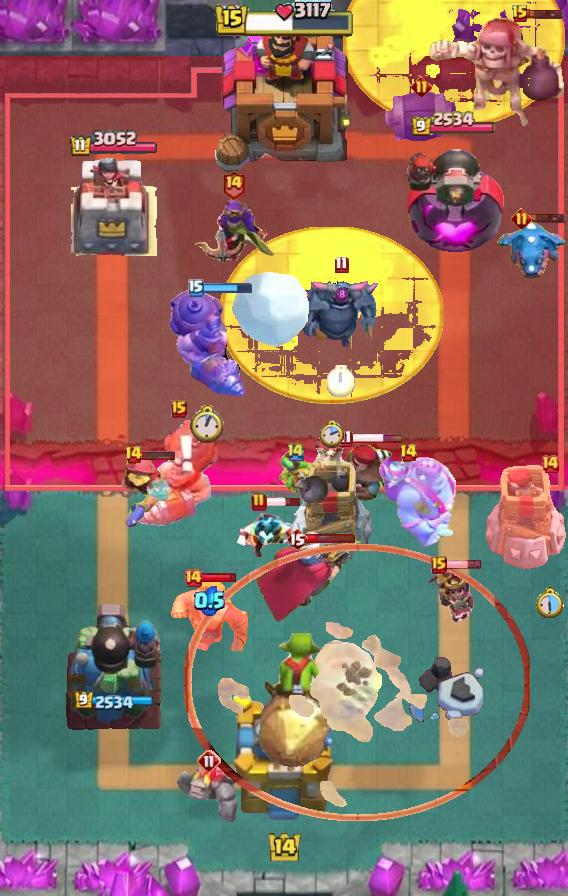barbarian-hut: (190, 199, 276, 275)
bomber-evolution: (422, 568, 477, 624)
clock: (213, 0, 355, 40)
electro-giant: (426, 16, 568, 130)
electro-spirit: (194, 585, 225, 616), (336, 286, 349, 302)
elixir: (190, 404, 224, 443), (327, 365, 355, 397), (536, 587, 564, 619), (320, 419, 344, 449)
emote: (201, 282, 253, 294), (350, 432, 404, 443), (306, 532, 356, 543), (265, 496, 303, 508), (528, 8, 565, 20), (530, 212, 567, 224), (140, 449, 176, 461), (201, 572, 239, 583), (445, 558, 482, 569)
fireball: (119, 454, 169, 530)
giant-snowball: (272, 451, 320, 495)
goblin-hut: (170, 579, 248, 651)
golemite: (299, 277, 383, 349)
graveyard: (496, 219, 568, 281)
king-tower: (211, 7, 357, 181), (227, 692, 341, 826)
lava-hound: (377, 454, 459, 550)
lumberjack: (232, 505, 306, 563)
phoenix-egg: (220, 228, 444, 405), (343, 0, 567, 128)
phoenix-small: (324, 442, 394, 510)
queen-tower: (71, 156, 157, 256)
royal-ghost: (184, 543, 530, 822)
selected: (69, 130, 159, 158), (410, 111, 496, 138), (74, 691, 154, 713)
text: (222, 168, 247, 199), (197, 749, 221, 773), (286, 527, 308, 551), (412, 75, 433, 97), (511, 208, 532, 229), (286, 441, 306, 462), (398, 443, 418, 463), (540, 454, 560, 474), (183, 568, 203, 588), (124, 445, 143, 465), (511, 4, 529, 24), (251, 492, 267, 512), (188, 279, 204, 297), (171, 400, 187, 418), (431, 556, 447, 574), (335, 255, 350, 273), (339, 428, 353, 447)
the-log: (381, 88, 461, 148)
tower-bar: (64, 601, 164, 731), (401, 138, 505, 256)
valkyrie-evolution: (176, 761, 242, 823)
wall-breaker: (229, 268, 311, 348)
wall-breaker-evolution: (253, 537, 365, 625)
wizard: (136, 417, 222, 527), (166, 285, 248, 399)
x-bow: (256, 633, 346, 771)
zappy: (288, 430, 375, 568), (486, 465, 568, 571)
